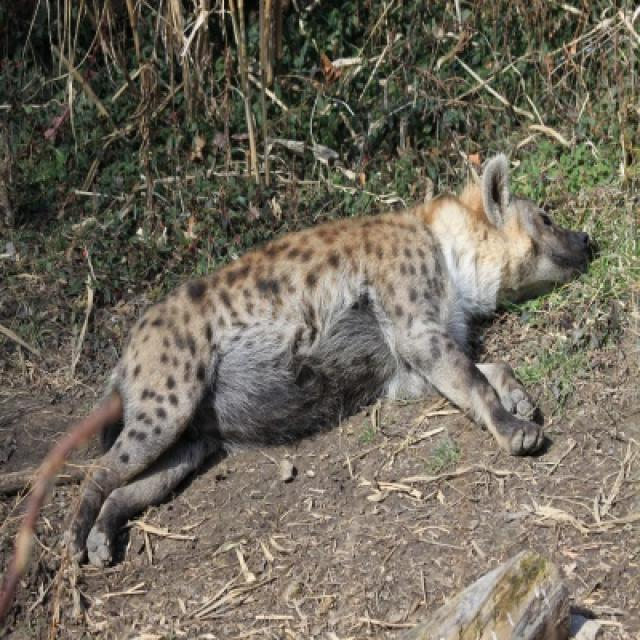hyena: (69, 154, 589, 565)
